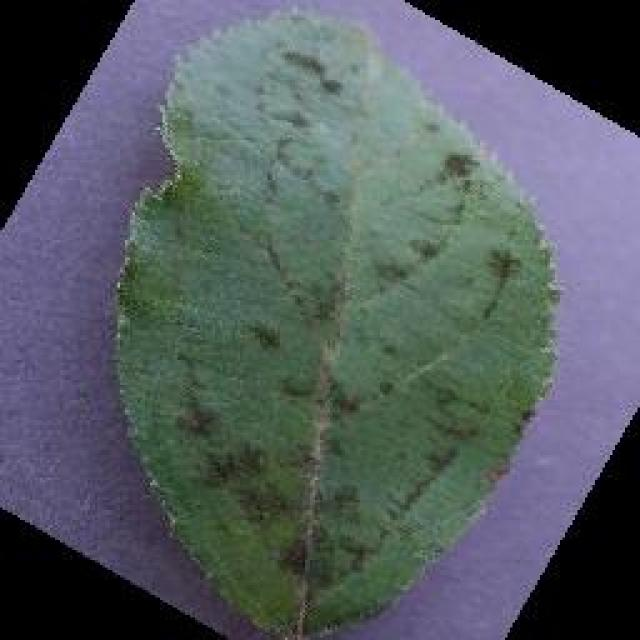apple scab disease: (108, 5, 562, 637)
